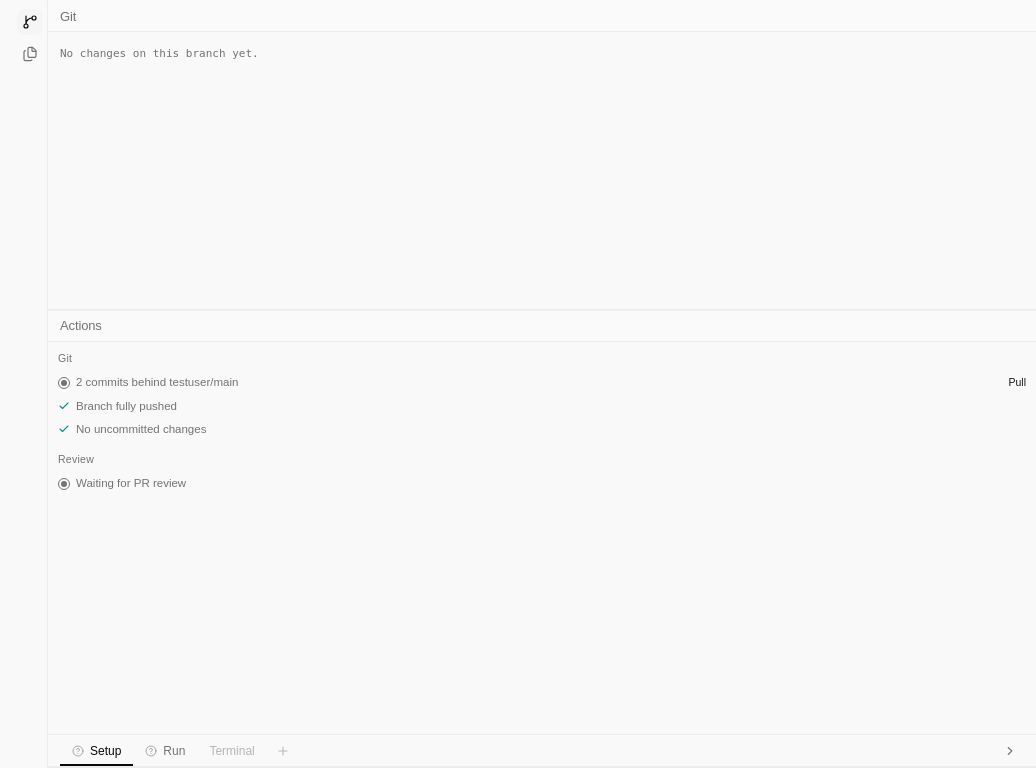
Test: WorkspaceInspectorSidebar Actions section › shows a neutral loading spinner on pull while sync is pending
Click the button "Pull" at point(1017, 383), box x1=1008 y1=375 x2=1026 y2=391
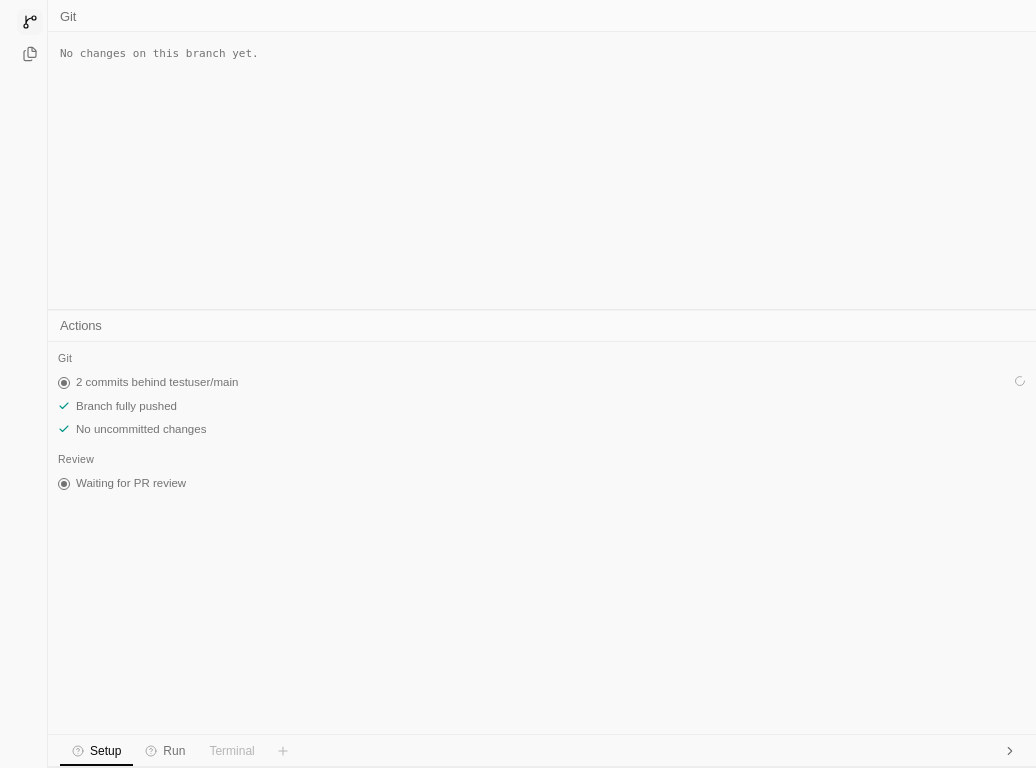
Now the button named "Pulling" is disabled, box x1=1014 y1=374 x2=1026 y2=391
Now the icon with class "animate-spin" is shown, box x1=1014 y1=374 x2=1026 y2=386
Now the button named "Pulling" no longer shows "Pull", box x1=1014 y1=374 x2=1026 y2=391
